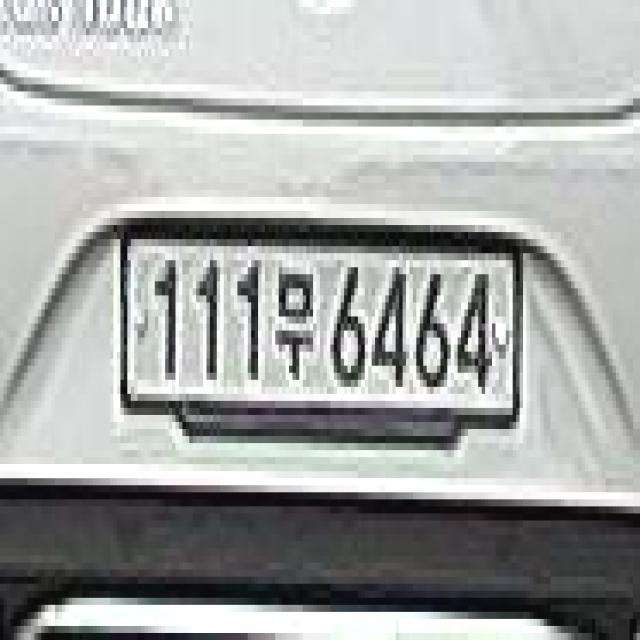illegal_plate: (115, 211, 527, 461)
